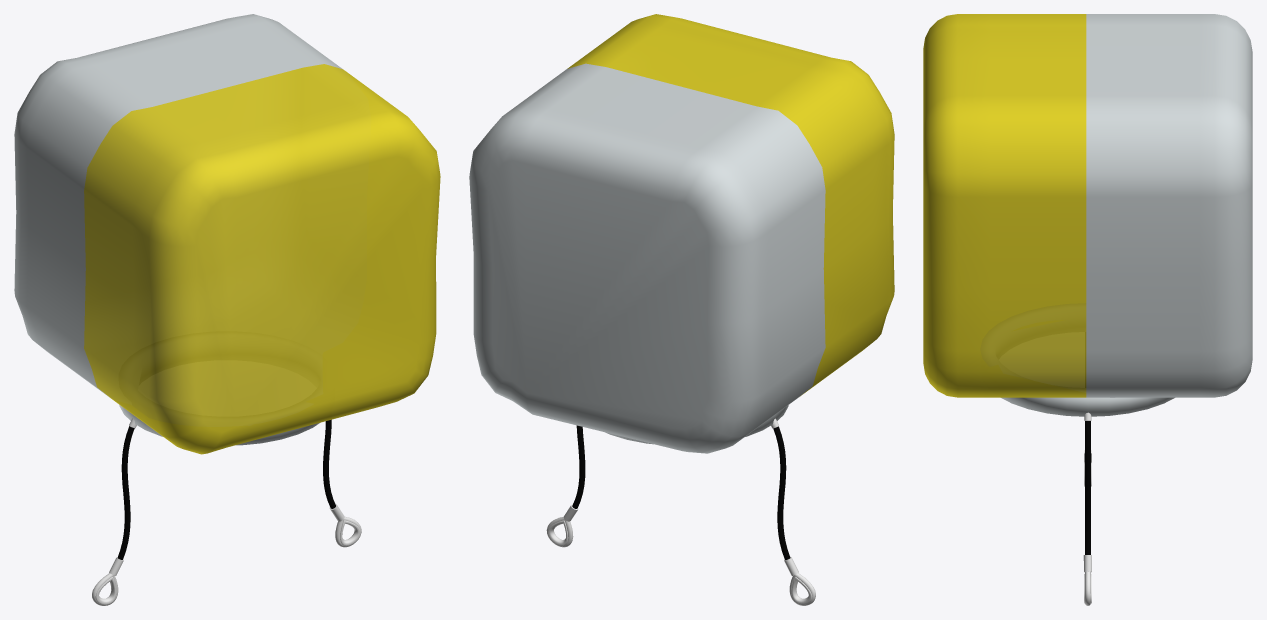
File: PBE-v3.fbx
3 views of the same model, side by side, from view 1: azimuth 30°, elevation 25°; view 2: azimuth 150°, elevation 25°; view 3: azimuth 270°, elevation 25° (orthographic).
Parts seen in each view (by area): view 1: Tow_Rope_001.001; view 2: Tow_Rope_001.001; view 3: Tow_Rope_001.001.
Boxes of the visible parts, <box> form: Tow_Rope_001.001: <box>14,14,440,605</box>; Tow_Rope_001.001: <box>469,14,894,605</box>; Tow_Rope_001.001: <box>923,14,1252,605</box>.
Size of the model in its own units: 3.96 by 6.46 by 3.96.
